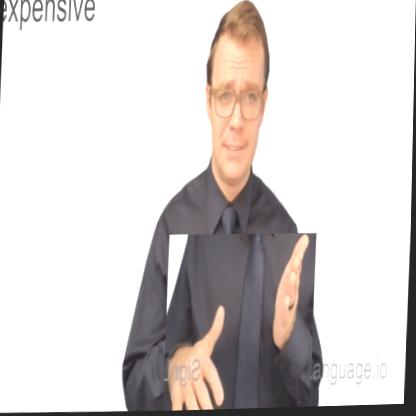Expensive: (164, 232, 317, 412)
